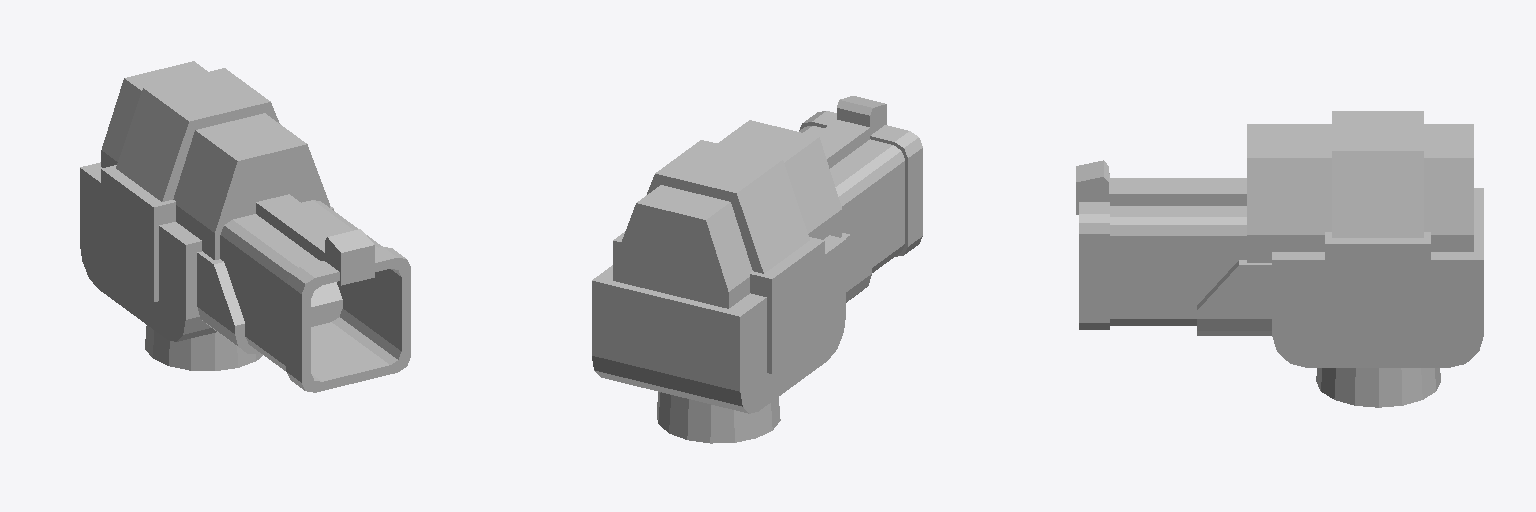
The model's file is Turret_Cannon_Top_Cylinder_005.obj.
3 views of the same model, side by side, from view 1: azimuth 30°, elevation 25°; view 2: azimuth 150°, elevation 25°; view 3: azimuth 270°, elevation 25° (orthographic).
Parts seen in each view (by area): view 1: Turret_Cannon_Top_Cylinder.005; view 2: Turret_Cannon_Top_Cylinder.005; view 3: Turret_Cannon_Top_Cylinder.005.
Boxes of the visible parts, <box> form: Turret_Cannon_Top_Cylinder.005: <box>80,61,410,392</box>; Turret_Cannon_Top_Cylinder.005: <box>592,96,922,443</box>; Turret_Cannon_Top_Cylinder.005: <box>1076,111,1483,407</box>.
Bounding box in the file's own units: 0.323 × 0.4855 × 0.7165.